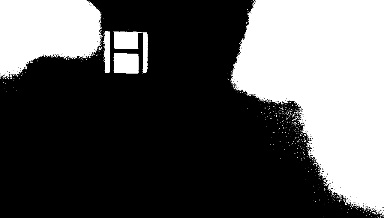H: (104, 30, 147, 73)
